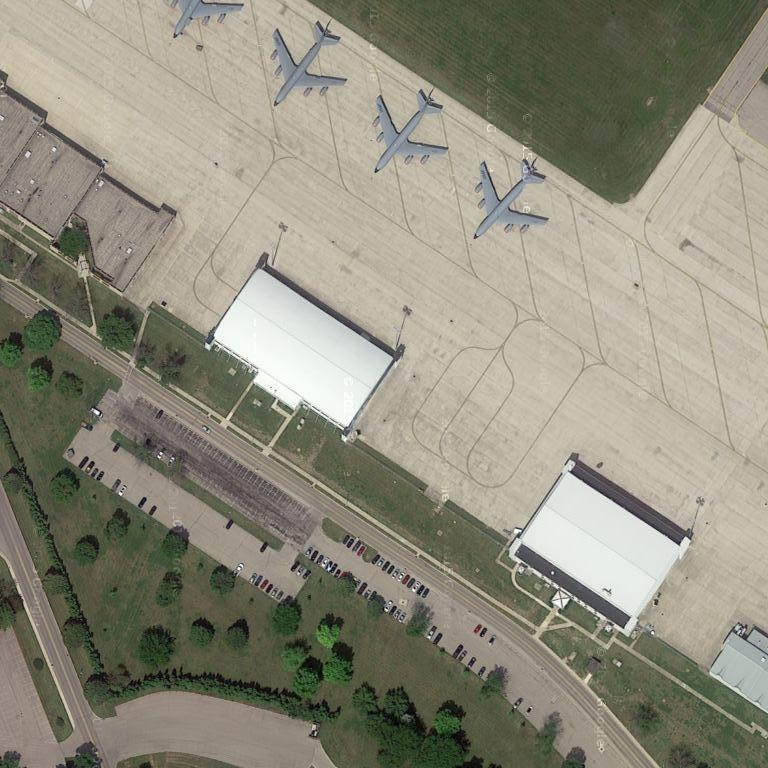KC-135: (469, 153, 552, 244), (369, 88, 450, 180), (267, 18, 347, 111)
